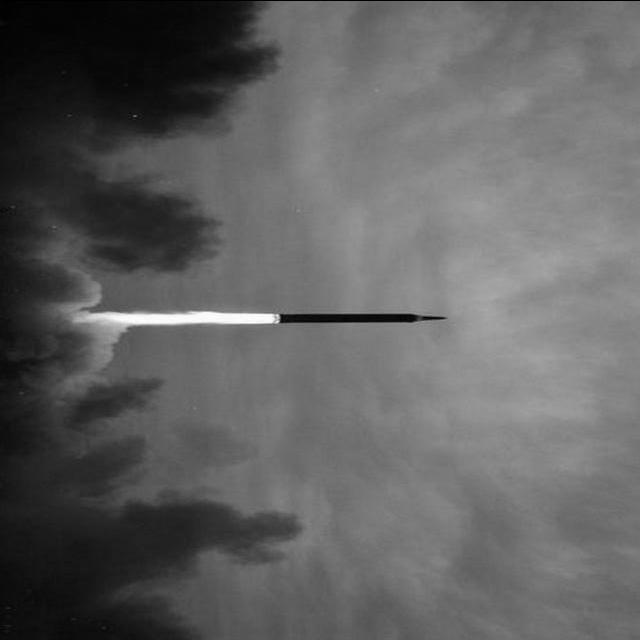missile: (268, 306, 456, 326)
